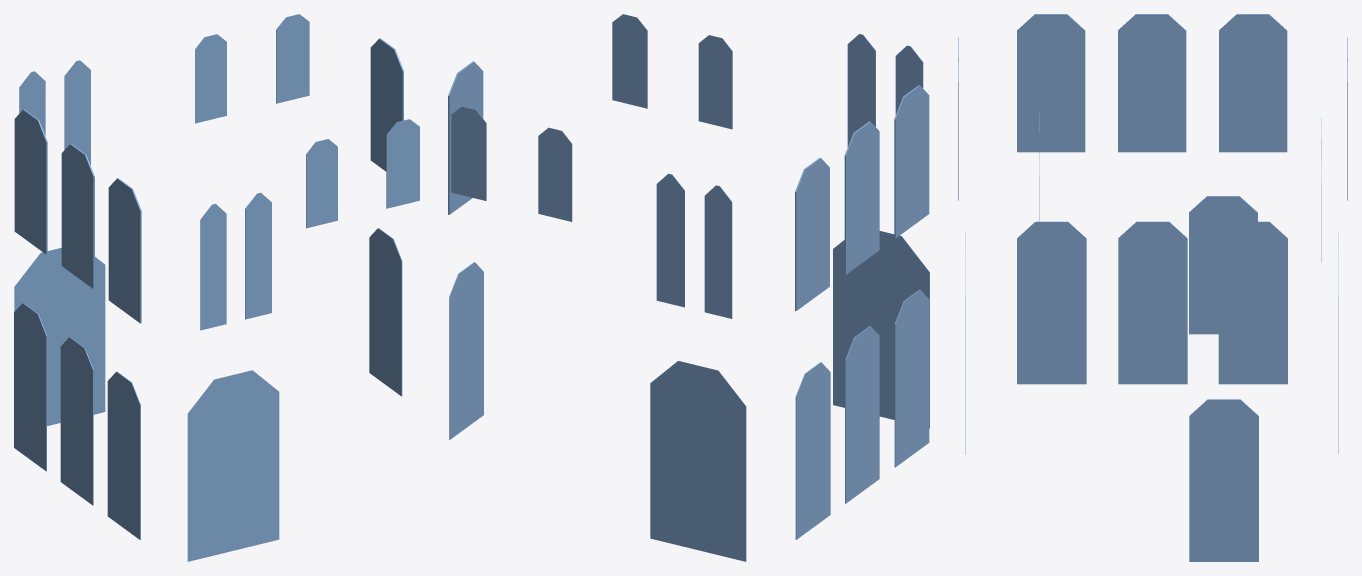
File: WindowTransparent_VM.fbx
3 views of the same model, side by side, from view 1: azimuth 30°, elevation 25°; view 2: azimuth 150°, elevation 25°; view 3: azimuth 270°, elevation 25° (orthographic). The views are drawn at different scales.
Visible parts, largest first — view 1: WindowTransparent_VM; view 2: WindowTransparent_VM; view 3: WindowTransparent_VM.
Part boxes in pixels (x1,y1,x2,y2): WindowTransparent_VM: [14, 14, 419, 561]; WindowTransparent_VM: [448, 14, 929, 561]; WindowTransparent_VM: [958, 14, 1347, 561].
Bounding box in the file's own units: 1689 × 1684 × 1541.
